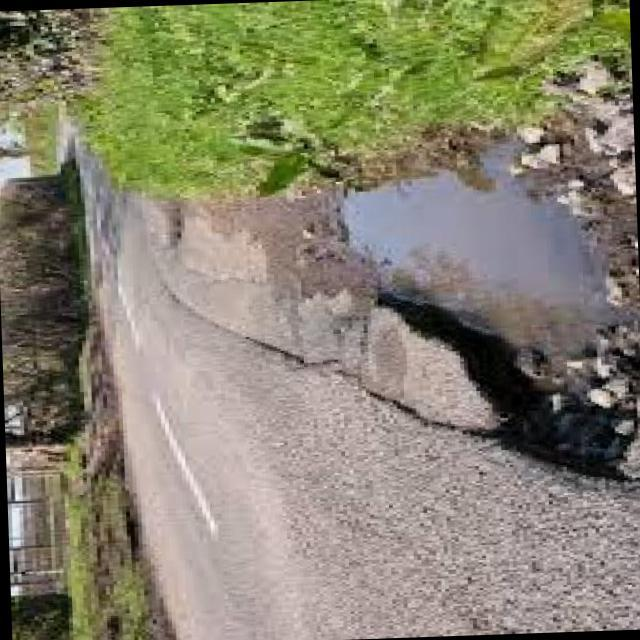pothole: (314, 143, 640, 498)
